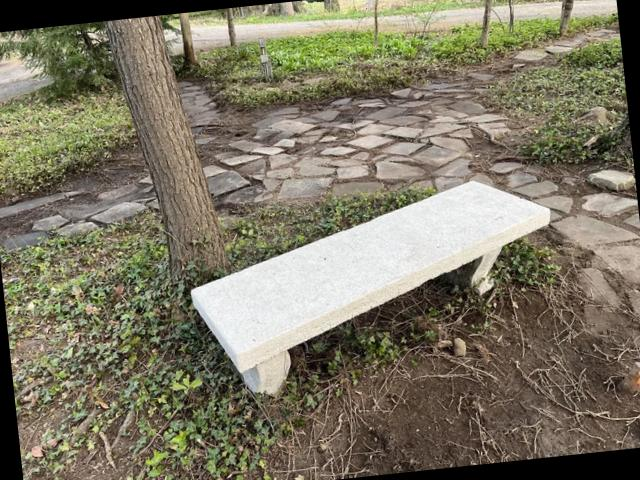overgrown grass: (8, 219, 168, 363), (204, 33, 431, 95), (0, 93, 133, 197), (226, 193, 393, 257), (518, 64, 628, 154)
